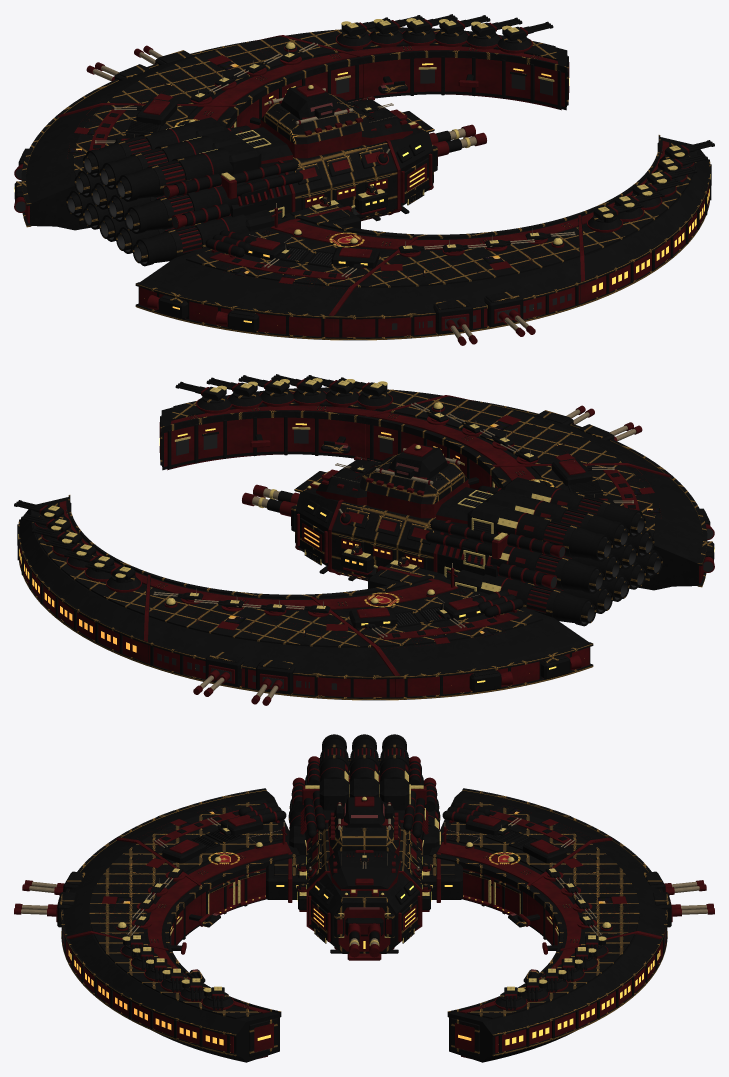
The picture shows the model from 3 angles, top to bottom: view 1: azimuth 30°, elevation 25°; view 2: azimuth 150°, elevation 25°; view 3: azimuth 270°, elevation 25°; orthographic projection. The views are drawn at different scales.
Visible parts, largest first — view 1: arm_aft_mid.R, arm_mid_light.R, arm_mid_mid.R, arm_mid_light, arm_fore_dark, core_mid_light, arm_aft_light.R, arm_aft_mid, arm_mid_dark.R, arm_aft_dark.R, arm_fore_mid.R, arm_mid_dark (+37 smaller); view 2: arm_aft_mid, arm_mid_light, arm_mid_mid, arm_mid_light.R, arm_fore_dark.R, core_mid_light, arm_aft_light, arm_aft_mid.R, arm_mid_dark, arm_aft_dark, arm_fore_mid, arm_mid_dark.R (+37 smaller); view 3: arm_mid_light, arm_mid_light.R, arm_fore_mid, arm_fore_mid.R, arm_aft_mid.R, arm_aft_mid, arm_aft_light, arm_aft_light.R, arm_aft_dark, arm_aft_dark.R, arm_fore_light, arm_fore_light.R (+25 smaller).
Part boxes in pixels (bbox=[...]): arm_aft_mid.R: bbox=[138, 205, 412, 336]; arm_mid_light.R: bbox=[330, 213, 582, 340]; arm_mid_mid.R: bbox=[335, 217, 580, 337]; arm_mid_light: bbox=[56, 36, 366, 115]; arm_fore_dark: bbox=[253, 35, 569, 110]; core_mid_light: bbox=[261, 93, 397, 220]; arm_aft_light.R: bbox=[135, 205, 418, 339]; arm_aft_mid: bbox=[14, 98, 236, 230]; arm_mid_dark.R: bbox=[328, 218, 580, 345]; arm_aft_dark.R: bbox=[139, 206, 410, 336]; arm_fore_mid.R: bbox=[581, 137, 711, 294]; arm_mid_dark: bbox=[57, 45, 362, 129]; arm_aft_mid: bbox=[316, 565, 590, 696]; arm_mid_light: bbox=[146, 573, 398, 700]; arm_mid_mid: bbox=[148, 577, 393, 697]; arm_mid_light.R: bbox=[362, 396, 672, 475]; arm_fore_dark.R: bbox=[159, 395, 475, 470]; core_mid_light: bbox=[331, 453, 467, 579]; arm_aft_light: bbox=[310, 565, 593, 699]; arm_aft_mid.R: bbox=[492, 458, 714, 590]; arm_mid_dark: bbox=[148, 578, 400, 705]; arm_aft_dark: bbox=[318, 566, 589, 696]; arm_fore_mid: bbox=[17, 497, 147, 654]; arm_mid_dark.R: bbox=[366, 405, 671, 489]; arm_mid_light: bbox=[508, 838, 669, 957]; arm_mid_light.R: bbox=[59, 838, 220, 957]; arm_fore_mid: bbox=[449, 934, 659, 1062]; arm_fore_mid.R: bbox=[69, 934, 279, 1062]; arm_aft_mid.R: bbox=[121, 790, 306, 914]; arm_aft_mid: bbox=[422, 790, 607, 914]; arm_aft_light: bbox=[422, 788, 612, 894]; arm_aft_light.R: bbox=[116, 788, 306, 894]; arm_aft_dark: bbox=[436, 803, 574, 915]; arm_aft_dark.R: bbox=[154, 803, 292, 915]; arm_fore_light: bbox=[447, 933, 662, 1056]; arm_fore_light.R: bbox=[66, 933, 281, 1056].
Bounding box in the file's own units: 1000 × 237 × 1200.
9 materials, 6 textured.
